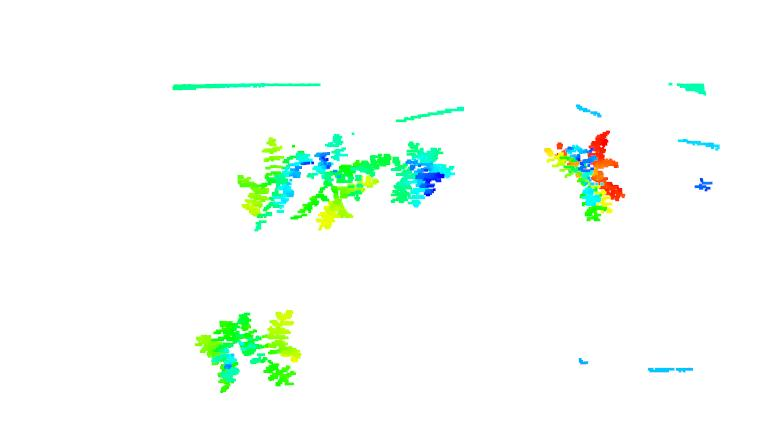chickpea: (297, 133, 390, 233), (194, 309, 302, 390), (544, 129, 625, 223), (232, 133, 306, 230), (390, 139, 458, 210)
